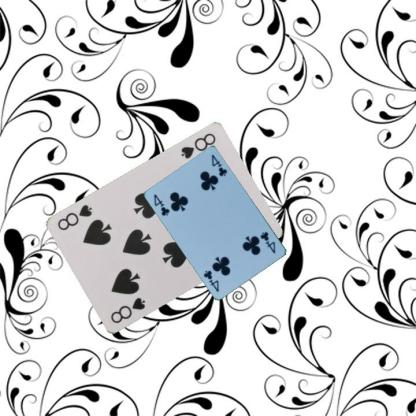4c: (151, 191, 171, 217), (258, 229, 276, 255)
8s: (107, 295, 147, 325), (178, 130, 217, 160)
